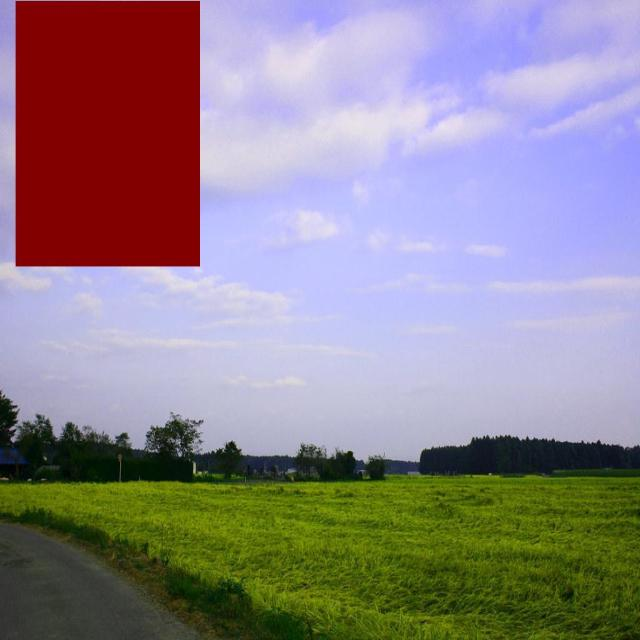RedSquare: (10, 0, 210, 275)
